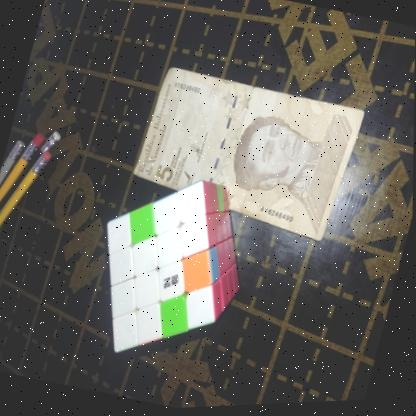five-front-vef: (126, 58, 367, 253)
